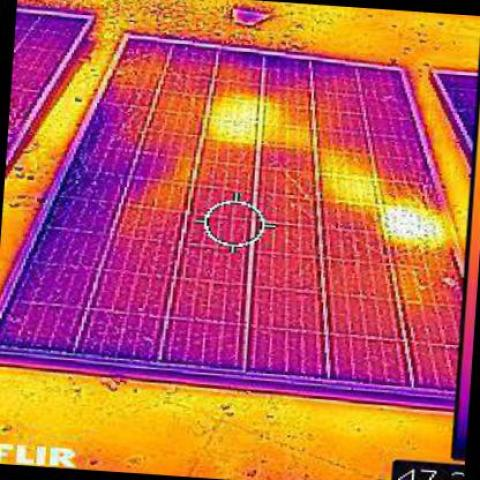fault: (384, 203, 446, 245), (321, 157, 372, 201), (208, 98, 256, 140)
